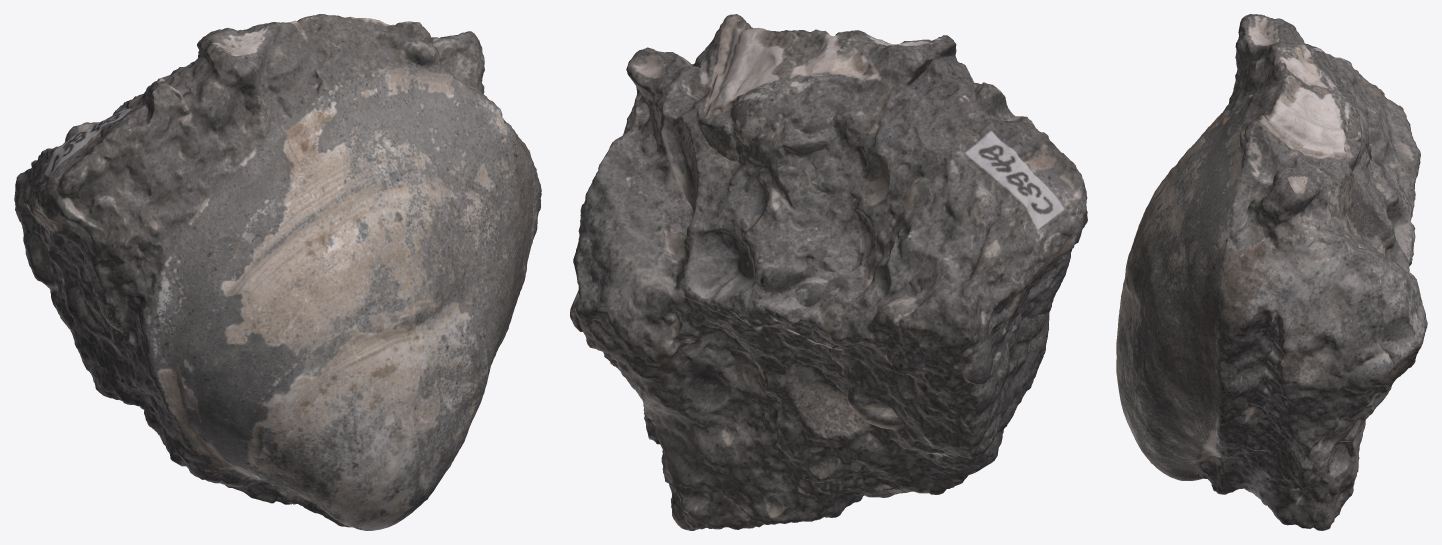
Rendered from EWS0016361.glb.
3 views of the same model, side by side, from view 1: azimuth 30°, elevation 25°; view 2: azimuth 150°, elevation 25°; view 3: azimuth 270°, elevation 25° (orthographic). The views are drawn at different scales.
Visible parts, largest first — view 1: input; view 2: input; view 3: input.
Boxes of the visible parts, x1=… form: input: x1=14, y1=14, x2=541, y2=530; input: x1=570, y1=14, x2=1087, y2=530; input: x1=1116, y1=14, x2=1427, y2=530.
Bounding box in the file's own units: 0.0386 × 0.0387 × 0.0256.
1 material, 1 textured.
